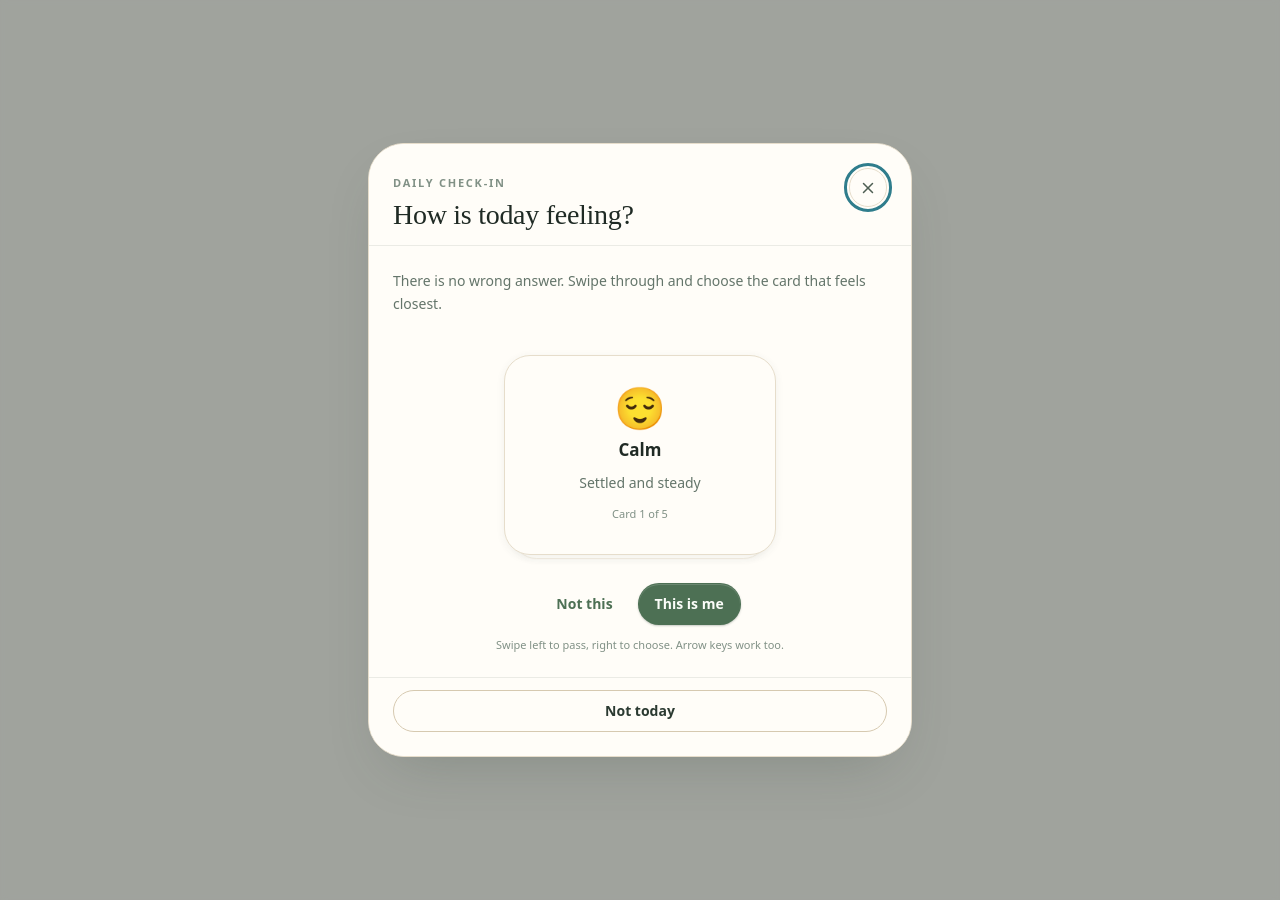
Test case: MoodCheckIn deck › shows one card at a time and passes with the button
expect the text "Calm" is shown: met, box [618, 436, 662, 464]
expect the text "Card 1 of 5" is shown: met, box [612, 505, 668, 523]
Click the button "Not this". click: (584, 604)
box: [539, 583, 630, 624]
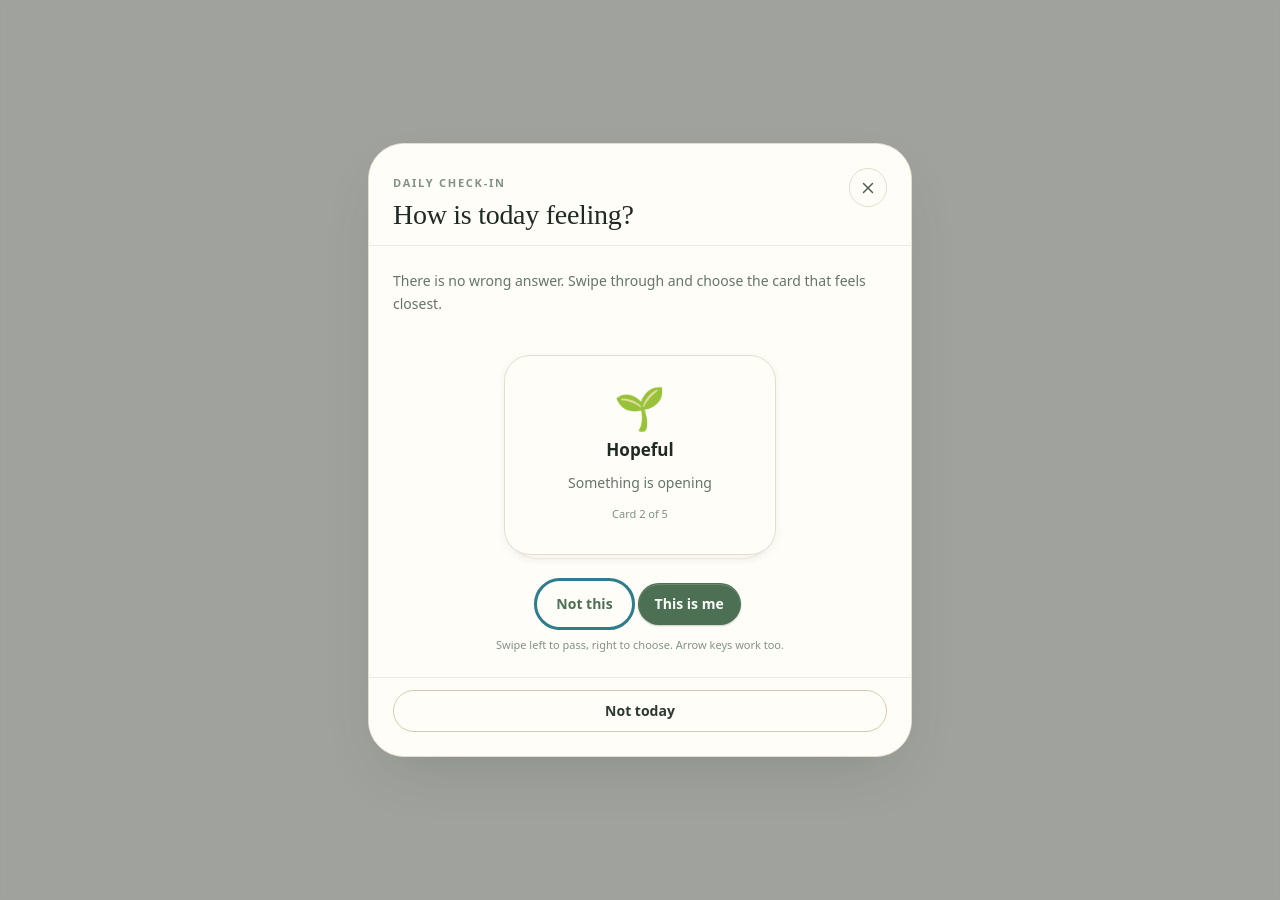
expect the text "Hopeful" is shown: met, box [606, 436, 674, 464]
expect the text "Card 2 of 5" is shown: met, box [612, 505, 668, 523]
